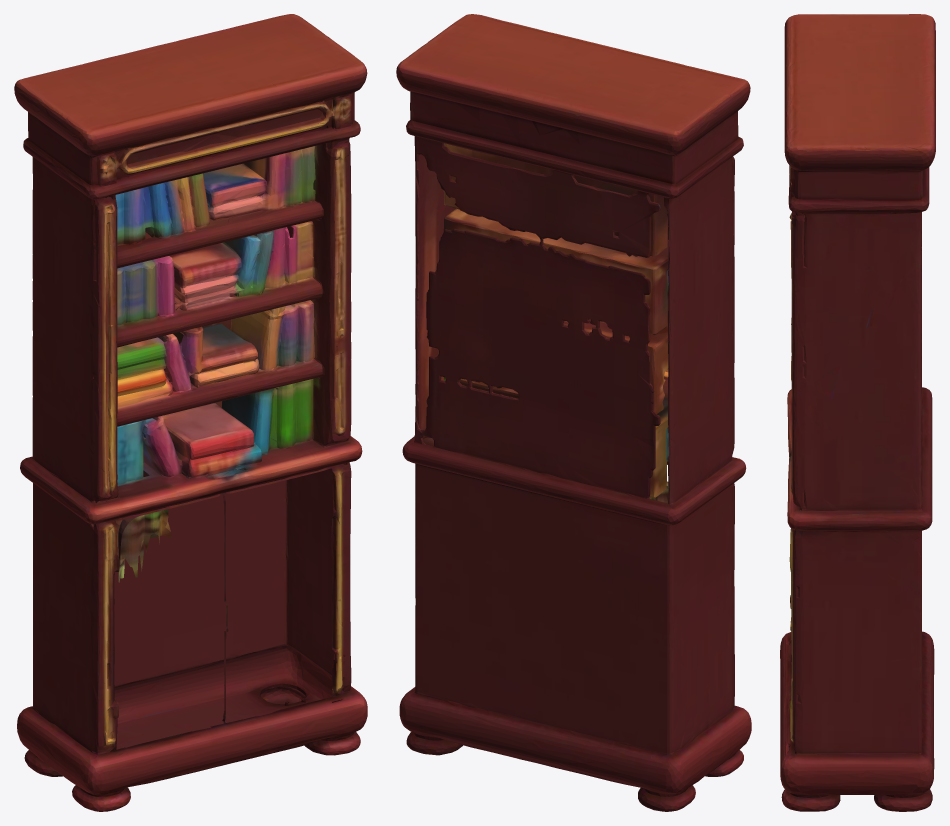
Rendered from body.glb.
3 renders of one model, left to right at view 1: azimuth 30°, elevation 25°; view 2: azimuth 150°, elevation 25°; view 3: azimuth 270°, elevation 25°, orthographic. The views are drawn at different scales.
Parts seen in each view (by area): view 1: source_surface_0; view 2: source_surface_0; view 3: source_surface_0.
Boxes of the visible parts, x1,y1,x2,y2 form: source_surface_0: [14, 14, 367, 811]; source_surface_0: [396, 14, 751, 811]; source_surface_0: [780, 14, 935, 811].
Size of the model in its own units: 0.8325 by 1.9 by 0.401.
1 material, 1 textured.
